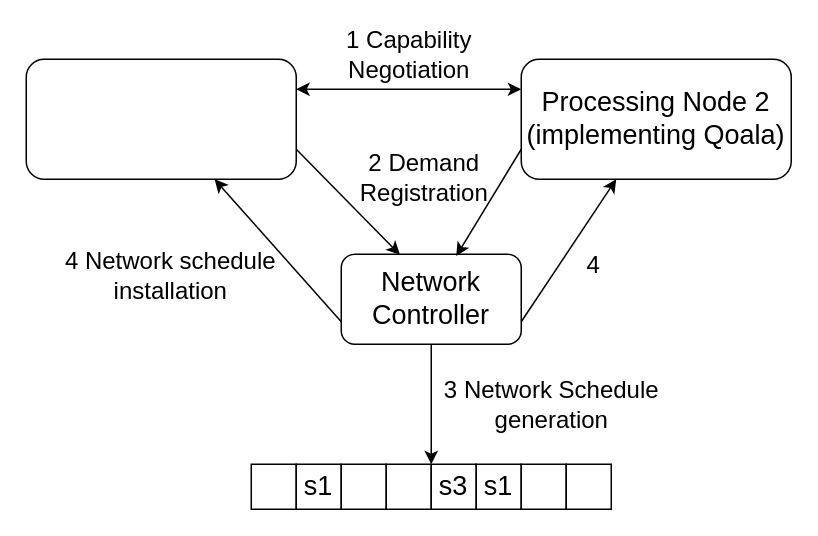
The diagram is 818 pixels wide and 536 high, and some of its shapes have lost their labels. Each missing label, with the centre of its shape:
Processing Node 1 (implementing Qoala): the point at 160,118
s2: the point at 408,486
